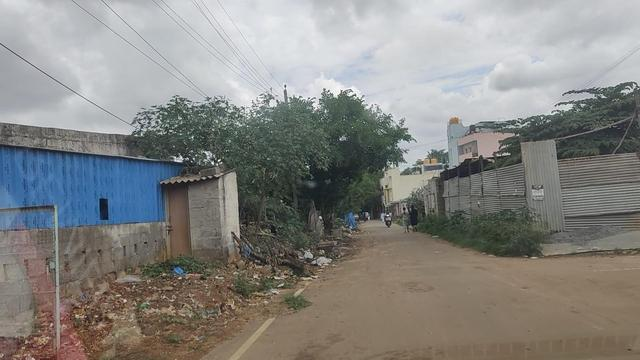RoadDamages: (395, 273, 442, 305)
